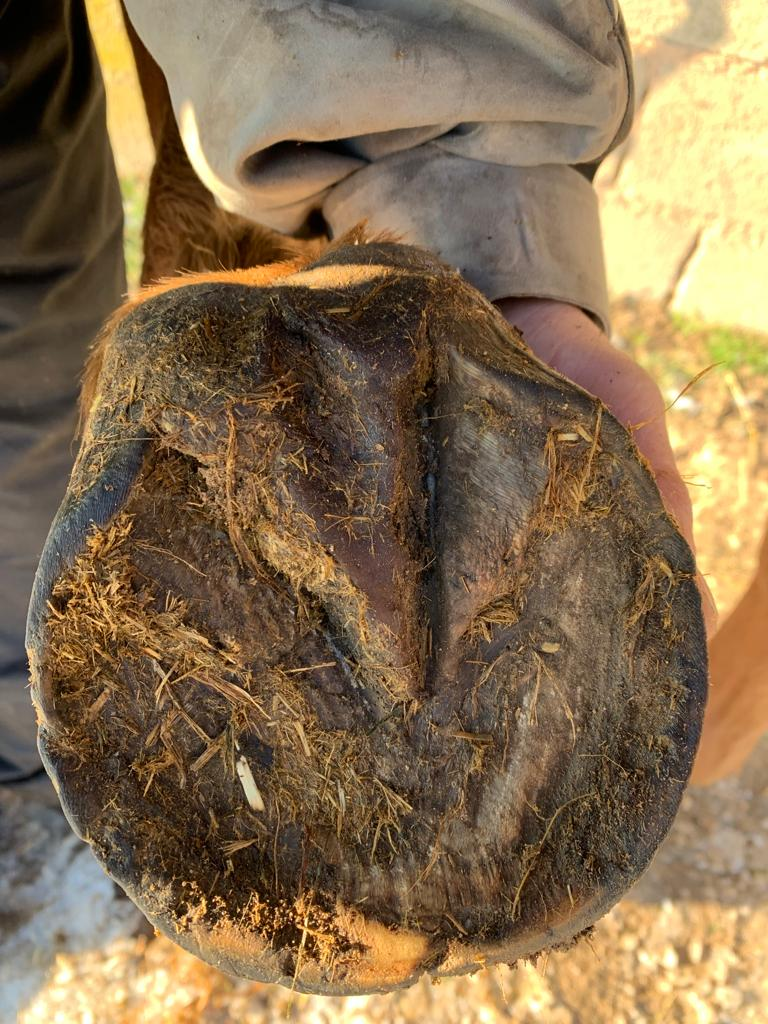horsesole: (24, 344, 710, 997)
